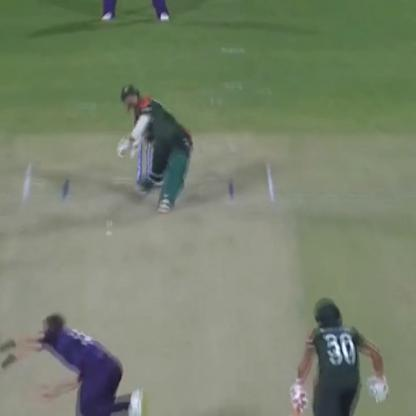ball: (102, 229, 116, 239), (103, 219, 114, 227)
pitch: (3, 159, 301, 414)
